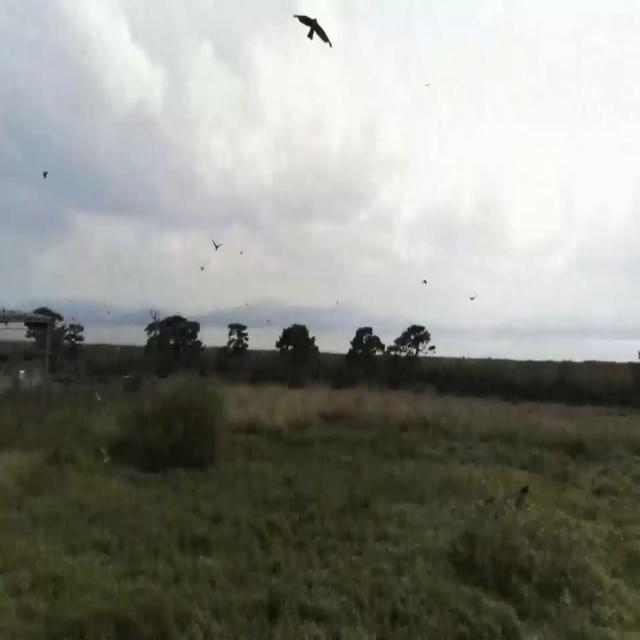bird: (292, 0, 333, 71), (211, 232, 223, 262), (469, 284, 478, 310), (199, 257, 205, 278)
